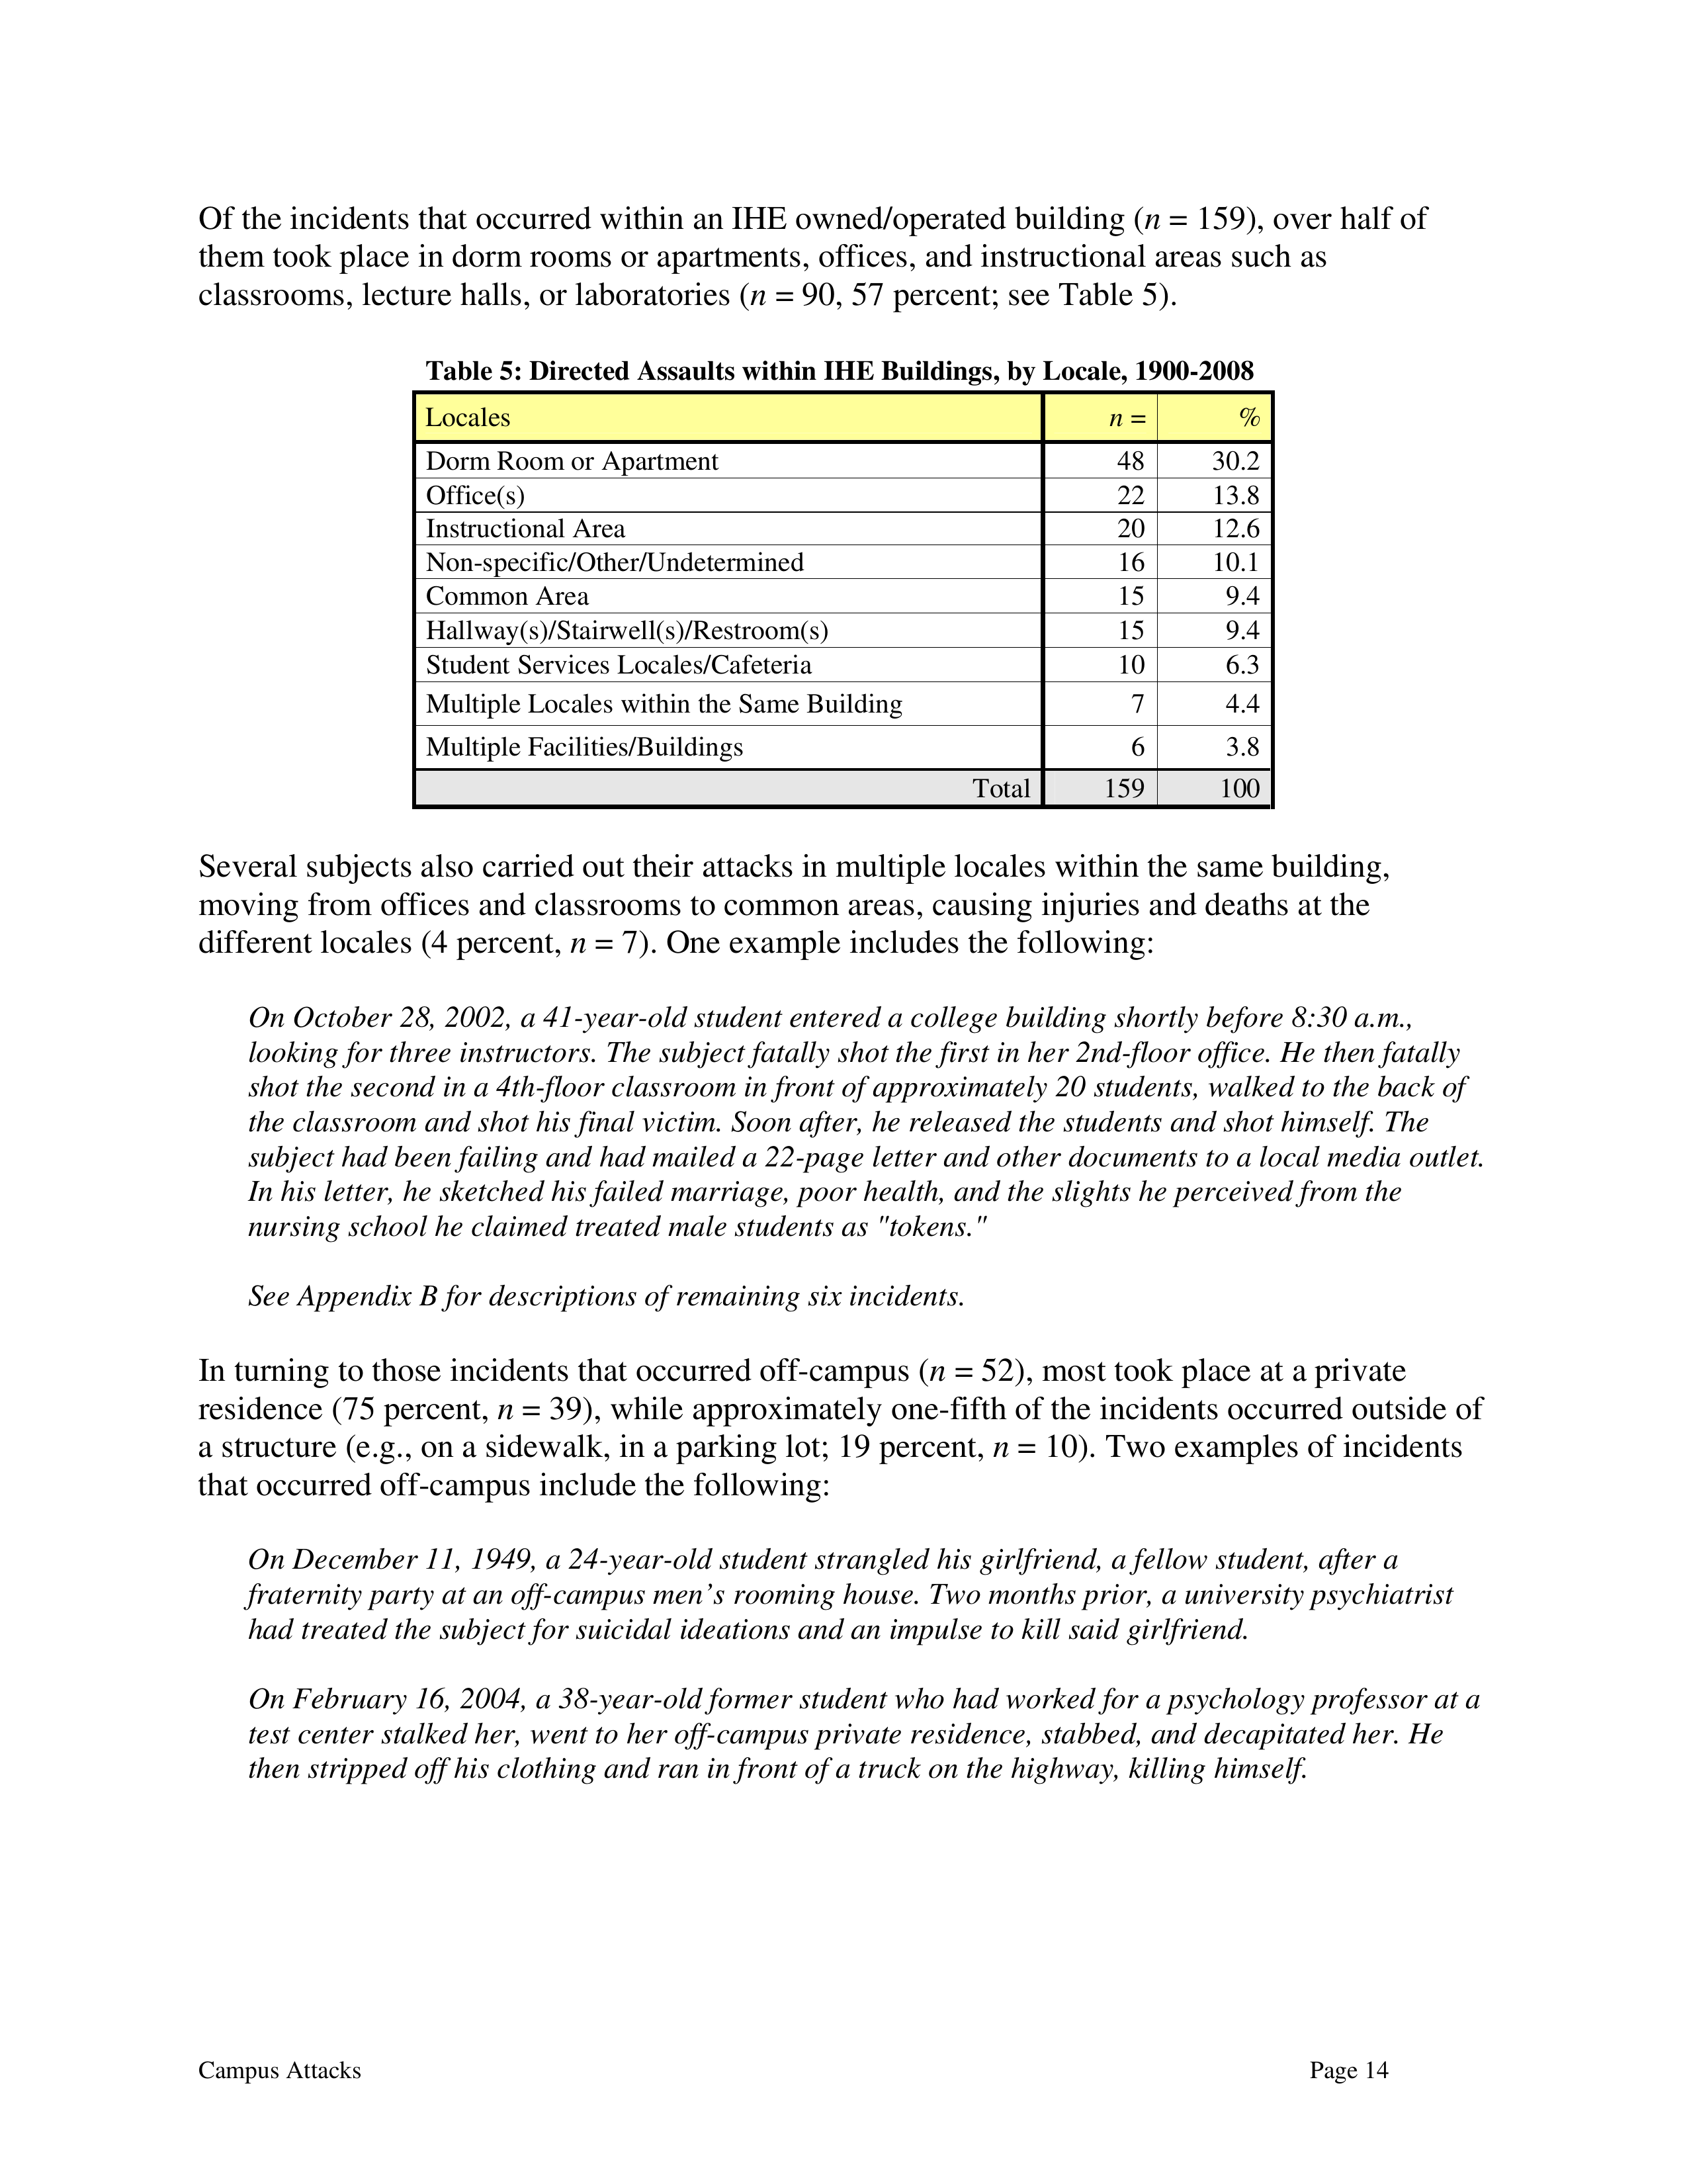table: (409, 390, 1278, 808)
